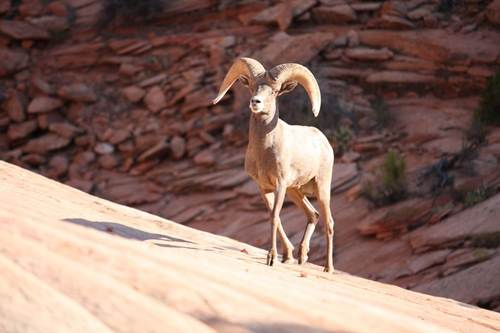sheep: (213, 56, 335, 272)
